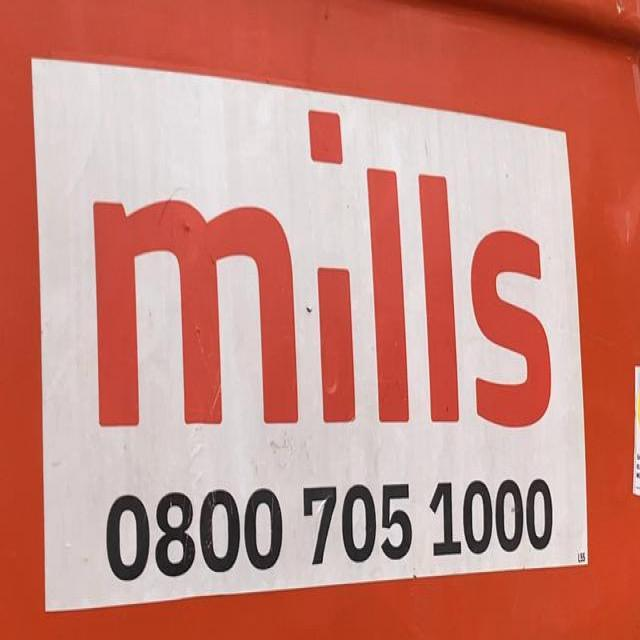Adesivos: (21, 46, 601, 627)
